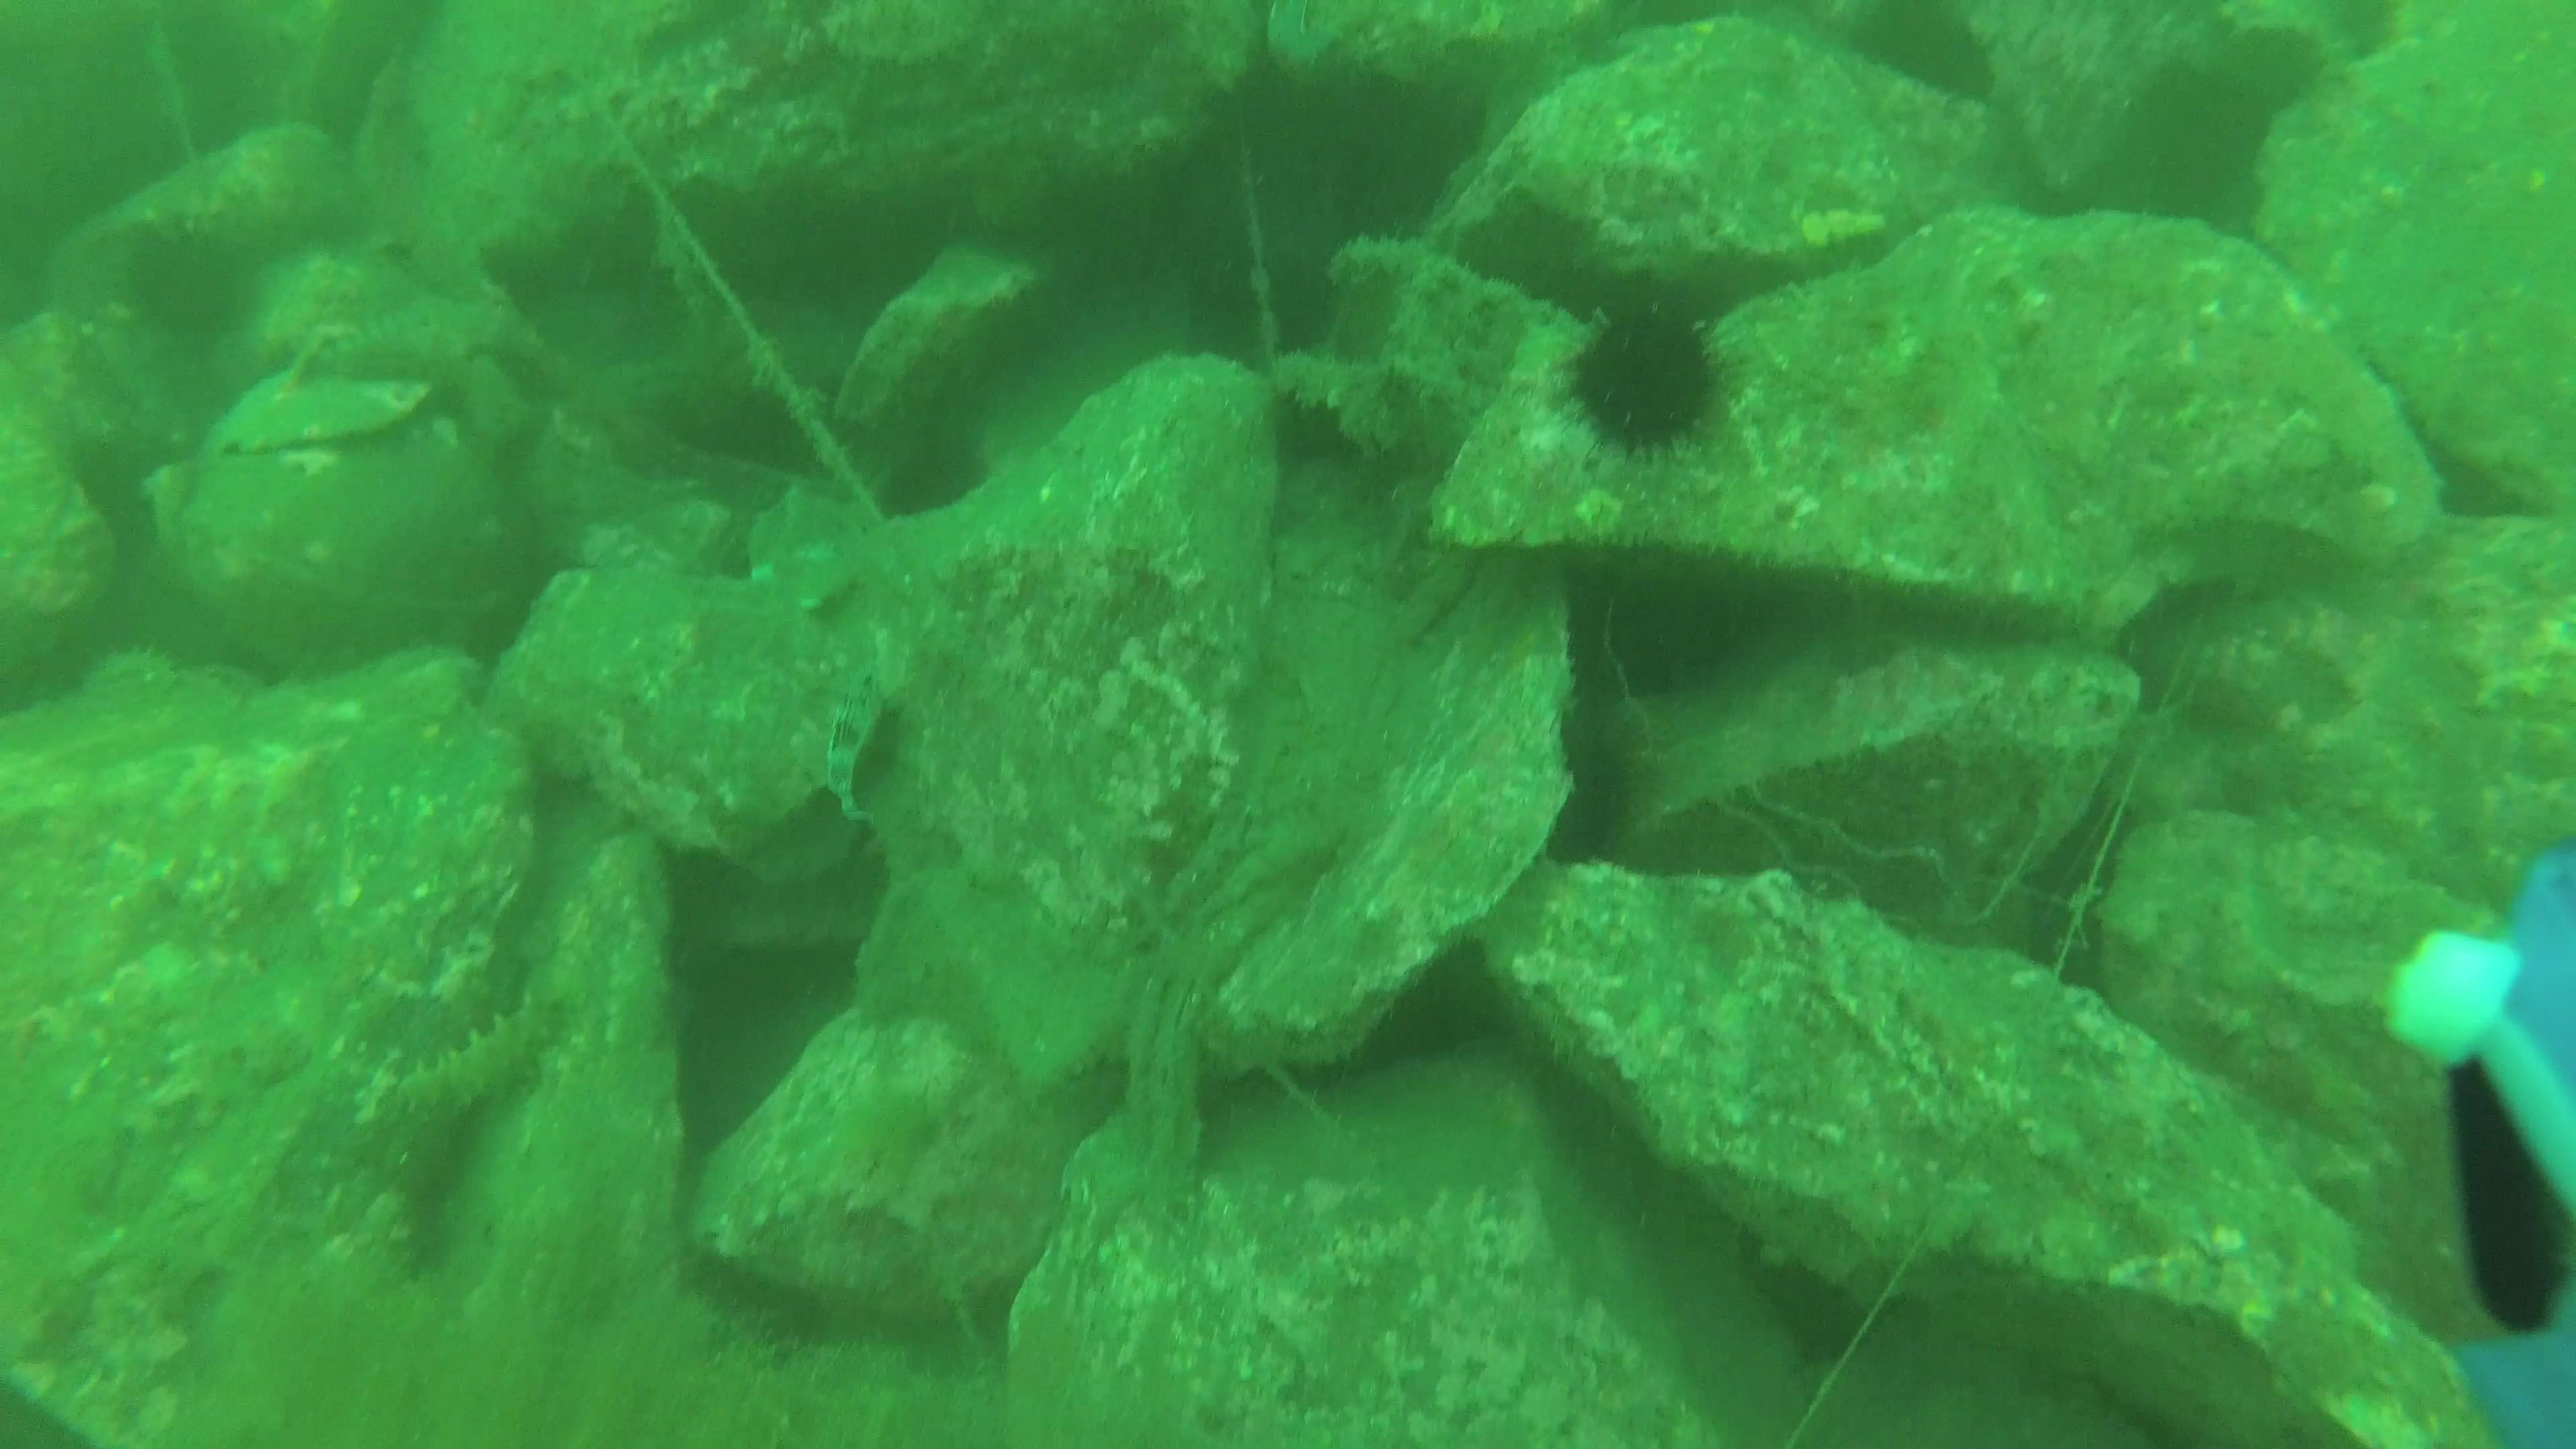echinus: (1543, 288, 1739, 462), (64, 193, 258, 366)
holothurian: (387, 982, 575, 1136)
